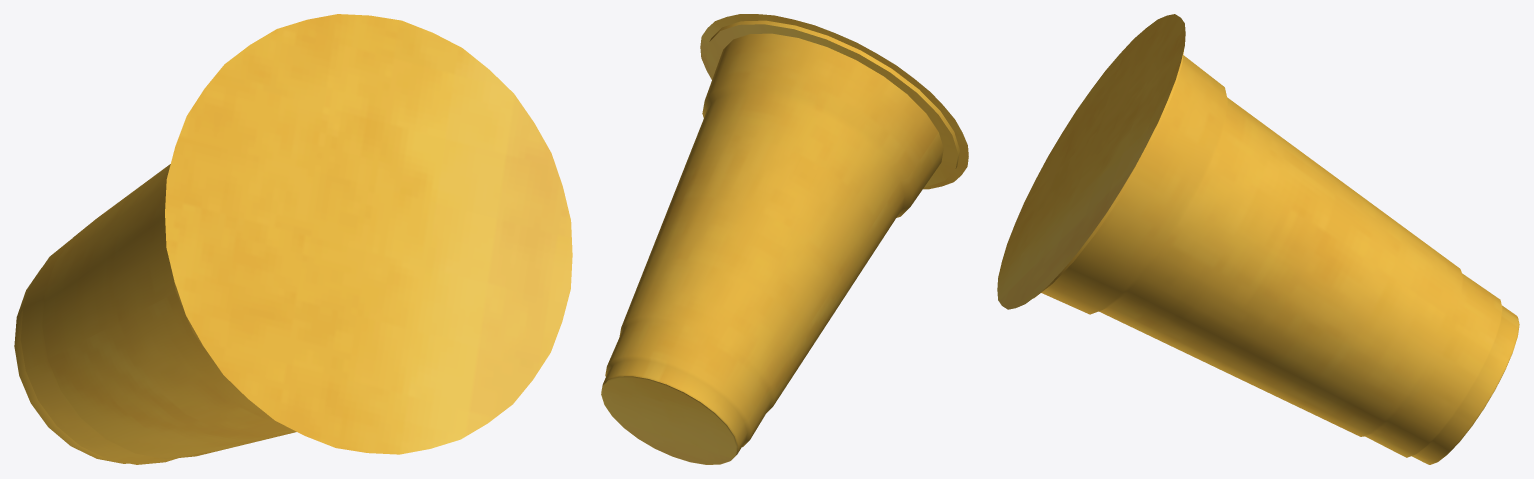
Rendered from ref_bfcornjuice.fbx.
3 renders of one model, left to right at view 1: azimuth 30°, elevation 25°; view 2: azimuth 150°, elevation 25°; view 3: azimuth 270°, elevation 25°, orthographic. The views are drawn at different scales.
Parts seen in each view (by area): view 1: ref_bfcornjuice; view 2: ref_bfcornjuice; view 3: ref_bfcornjuice.
Boxes of the visible parts, x1=… form: ref_bfcornjuice: x1=14, y1=14, x2=572, y2=464; ref_bfcornjuice: x1=601, y1=14, x2=968, y2=464; ref_bfcornjuice: x1=997, y1=14, x2=1519, y2=464.
Bounding box in the file's own units: 65.06 × 89.2 × 100.
